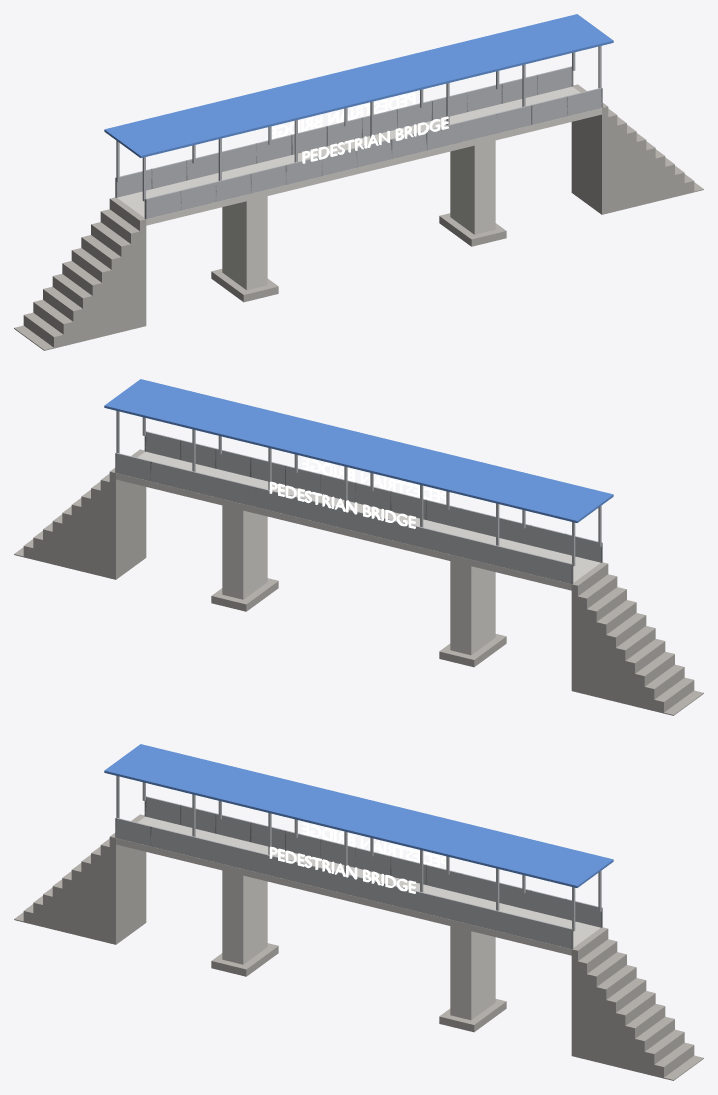
Rendered from ped_bridge.glb.
The picture shows the model from 3 angles, top to bottom: view 1: azimuth 30°, elevation 25°; view 2: azimuth 150°, elevation 25°; view 3: azimuth 330°, elevation 25°; orthographic projection.
Parts seen in each view (by area): view 1: BLD_ped_bridge; view 2: BLD_ped_bridge; view 3: BLD_ped_bridge.
Boxes of the visible parts, x1,y1,x2,y2 form: BLD_ped_bridge: (14,14,703,350); BLD_ped_bridge: (14,379,703,715); BLD_ped_bridge: (14,744,703,1080).
Bounding box in the file's own units: 37.65 × 9.51 × 3.6.
